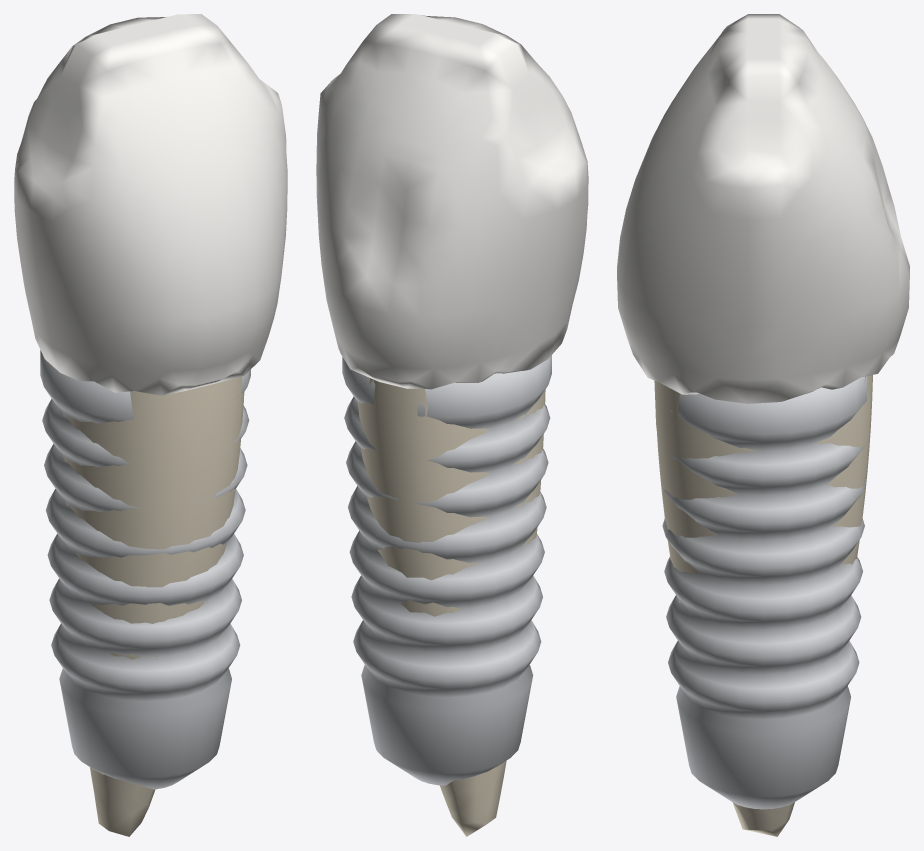
3 views of the same model, side by side, from view 1: azimuth 30°, elevation 25°; view 2: azimuth 150°, elevation 25°; view 3: azimuth 270°, elevation 25° (orthographic).
Visible parts, largest first — view 1: crown, implant, root; view 2: crown, implant, root; view 3: crown, implant, root.
Boxes of the visible parts, <box> form: crown: <box>14,14,287,395</box>; implant: <box>40,350,250,789</box>; root: <box>62,376,244,836</box>; crown: <box>316,14,588,389</box>; implant: <box>342,355,551,785</box>; root: <box>357,378,545,836</box>; crown: <box>617,14,909,403</box>; implant: <box>660,376,867,809</box>; root: <box>654,375,872,836</box>.
Bounding box in the file's own units: 4.62 × 14.24 × 4.66.
